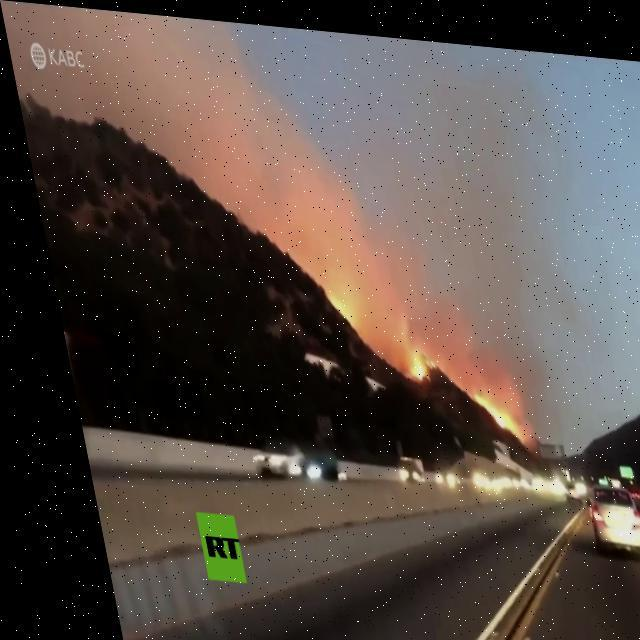Fire: (455, 382, 503, 424), (394, 342, 428, 381)
